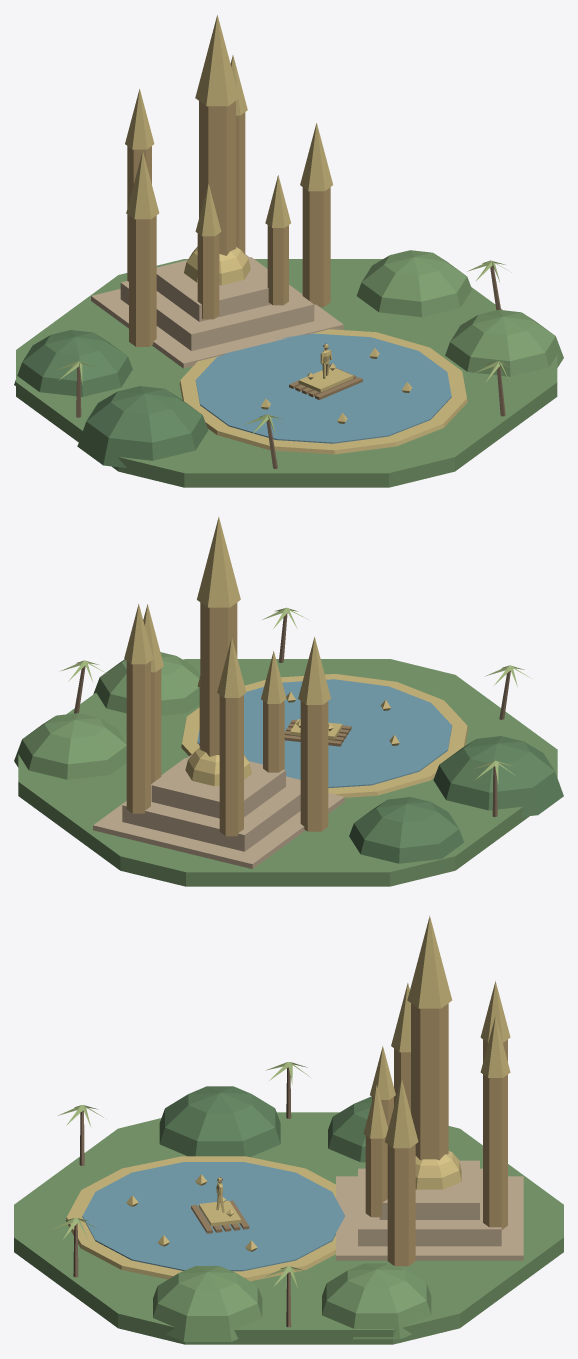
Rendered from el-dorado.glb.
3 views of the same model, one above another, from view 1: azimuth 30°, elevation 25°; view 2: azimuth 150°, elevation 25°; view 3: azimuth 270°, elevation 25° (orthographic).
Parts seen in each view (by area): view 1: LOD0; view 2: LOD0; view 3: LOD0.
Part boxes in pixels (left/top/right/bottom): LOD0: left=14, top=15, right=563, bottom=487; LOD0: left=14, top=516, right=563, bottom=886; LOD0: left=14, top=915, right=563, bottom=1344.
Size of what is drawn, in the model's own units: 1.71 by 1.13 by 1.76.
